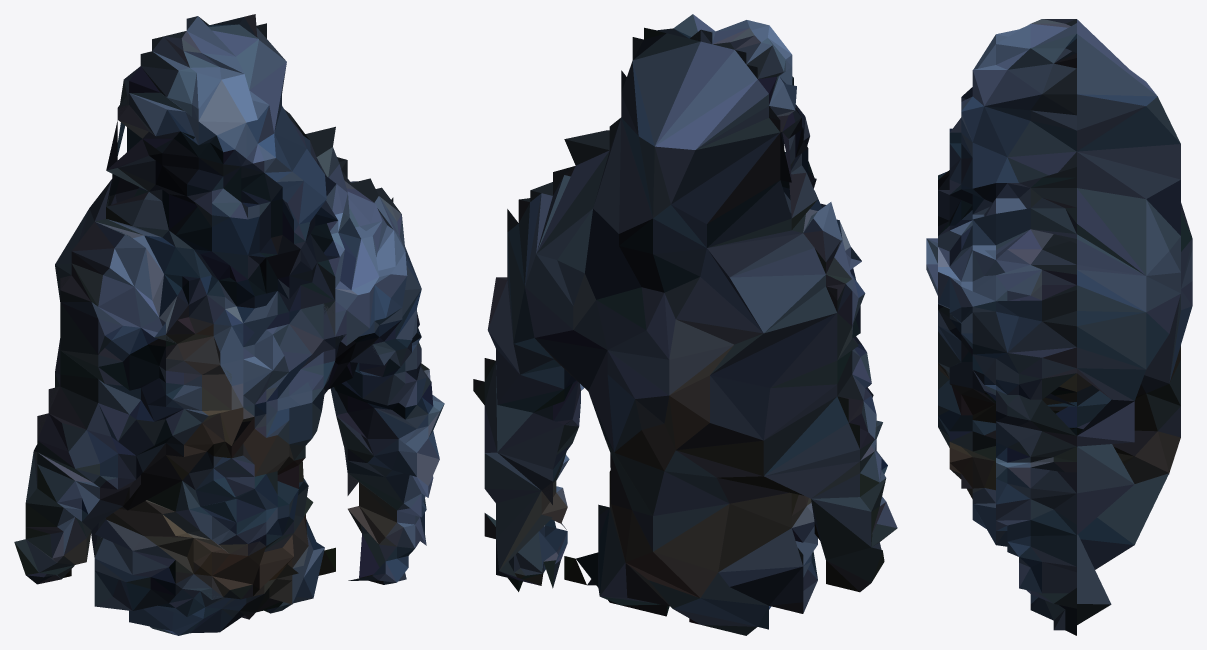
The model's file is B07_2_tidewalker_ranger_tunic.obj.
3 views of the same model, side by side, from view 1: azimuth 30°, elevation 25°; view 2: azimuth 150°, elevation 25°; view 3: azimuth 270°, elevation 25° (orthographic). The views are drawn at different scales.
Parts seen in each view (by area): view 1: B07_2_tidewalker_ranger_tunic; view 2: B07_2_tidewalker_ranger_tunic; view 3: B07_2_tidewalker_ranger_tunic.
Part boxes in pixels (left/top/right/bottom): B07_2_tidewalker_ranger_tunic: left=14, top=14, right=444, bottom=635; B07_2_tidewalker_ranger_tunic: left=473, top=14, right=897, bottom=635; B07_2_tidewalker_ranger_tunic: left=926, top=19, right=1192, bottom=635.
Size of the model in its own units: 36 by 51 by 23.
